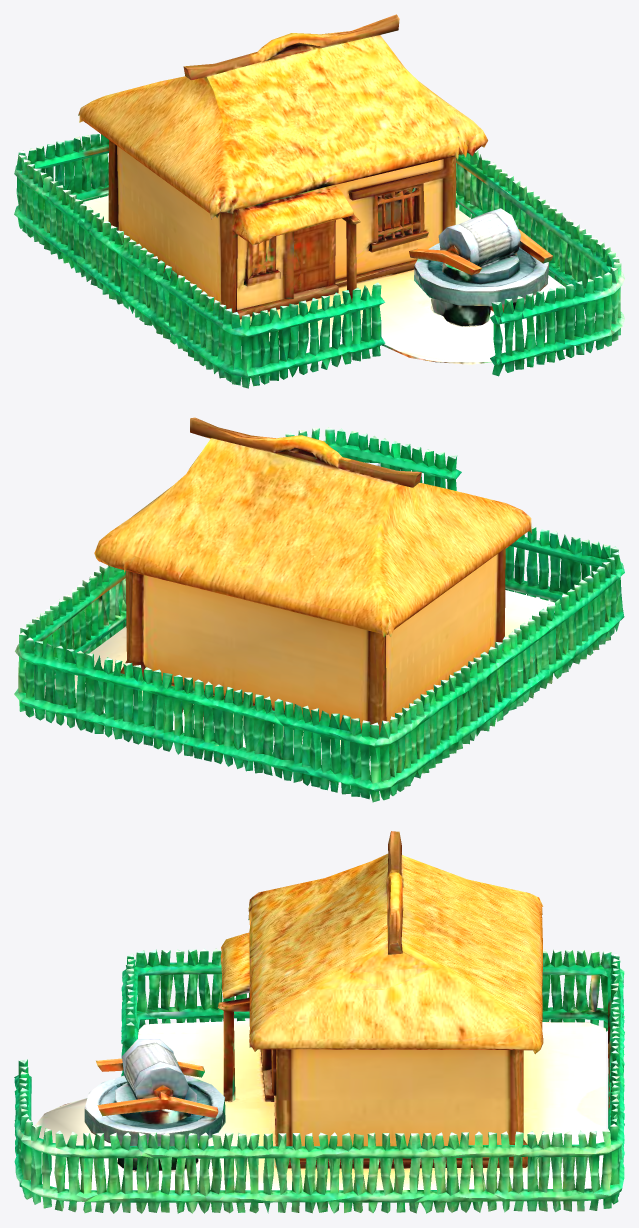
File: qm_farm_lo.glb
The picture shows the model from 3 angles, top to bottom: view 1: azimuth 30°, elevation 25°; view 2: azimuth 150°, elevation 25°; view 3: azimuth 270°, elevation 25°; orthographic projection. The views are drawn at different scales.
Parts seen in each view (by area): view 1: qm_farm; view 2: qm_farm; view 3: qm_farm.
Part boxes in pixels (<box>): qm_farm: <box>14,14,624,388</box>; qm_farm: <box>14,417,624,802</box>; qm_farm: <box>14,831,624,1213</box>.
Bounding box in the file's own units: 8.5 × 4.99 × 11.46.
1 material, 1 textured.
